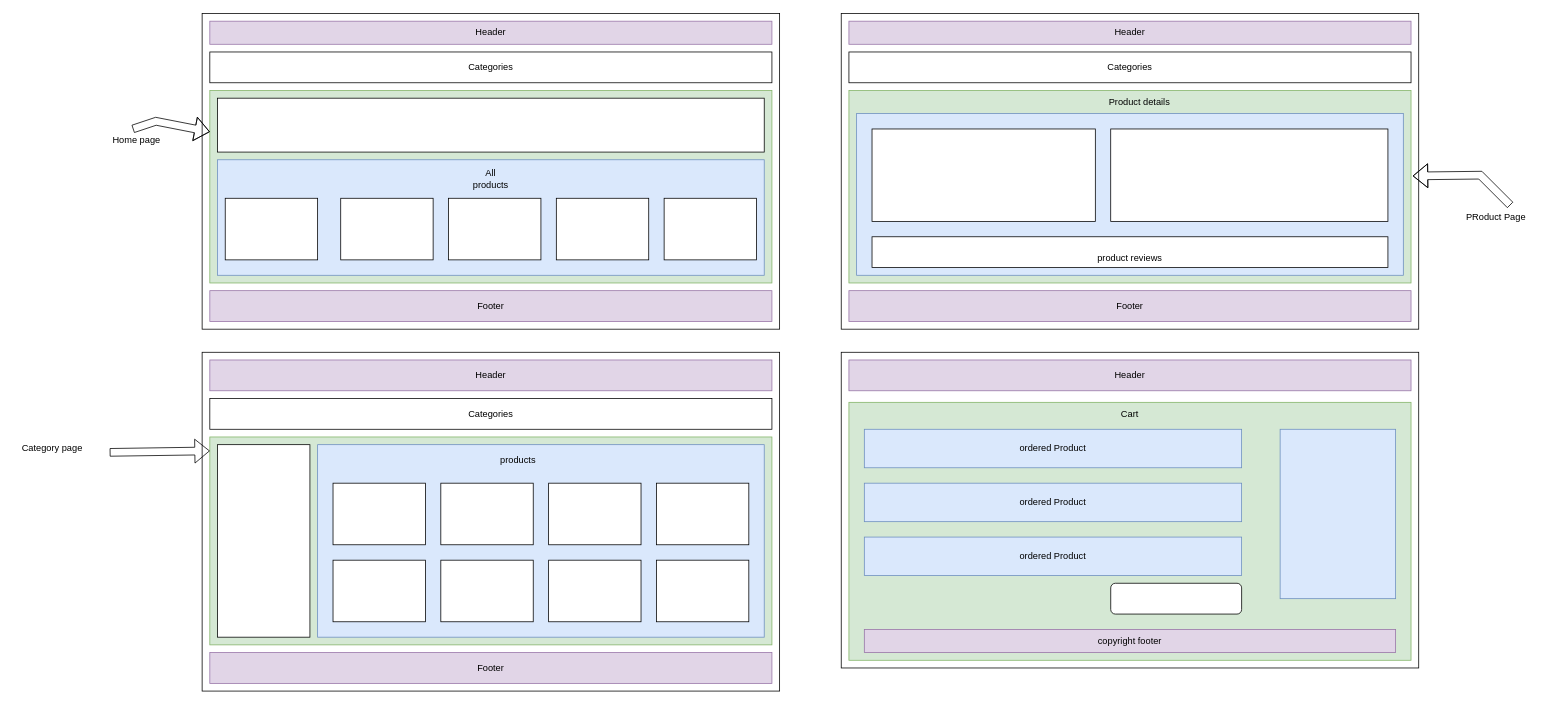
Some shapes in this 1547 by 705 pixel diagram are drawn without their labels. Here are the shapes that lost their labels. From the top down, the box of each, then its label:
(217, 97, 764, 152): Hero section
(871, 128, 1095, 221): product image
(1110, 128, 1388, 221): product description
(1279, 429, 1396, 599): sub total
(217, 444, 310, 637): Filters
(1110, 583, 1242, 614): place order button
